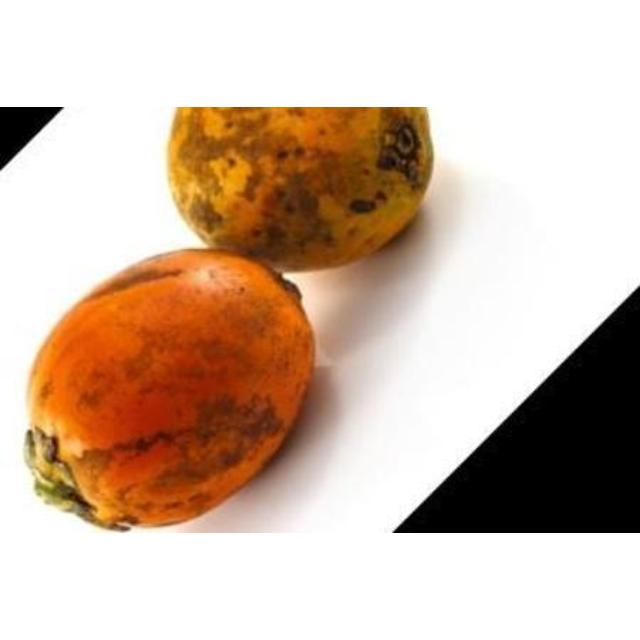good: (21, 249, 316, 531), (165, 107, 435, 275)
